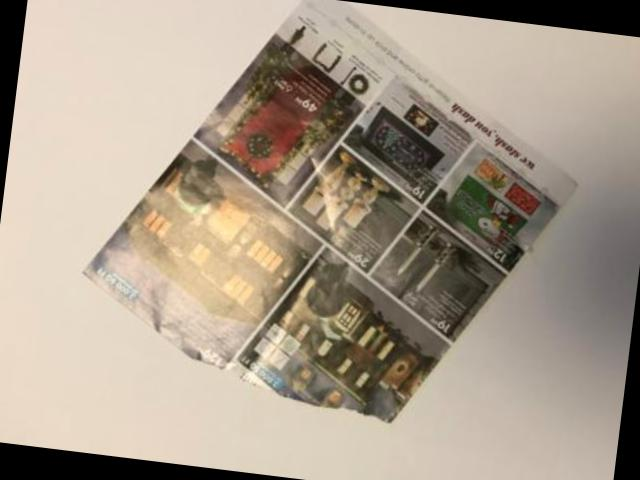cardboard paper: (83, 0, 573, 420)
